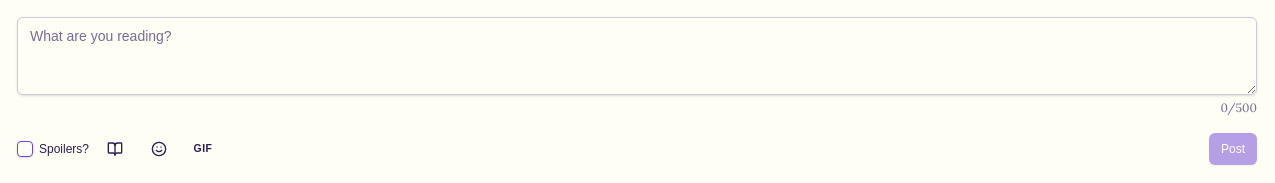
it: PostComposer › enables the Post button once content is typed
Step 1. Type "Hello" into the text box with placeholder "What are you reading?" → coordinates (637, 56), box [17,17,1257,95]
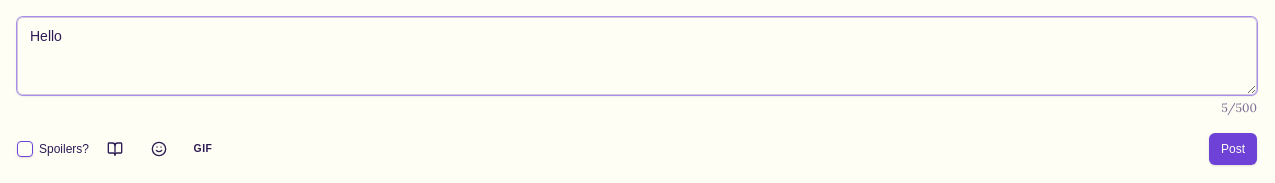
expect the button "Post" is enabled: met, box [1209,133,1257,165]
